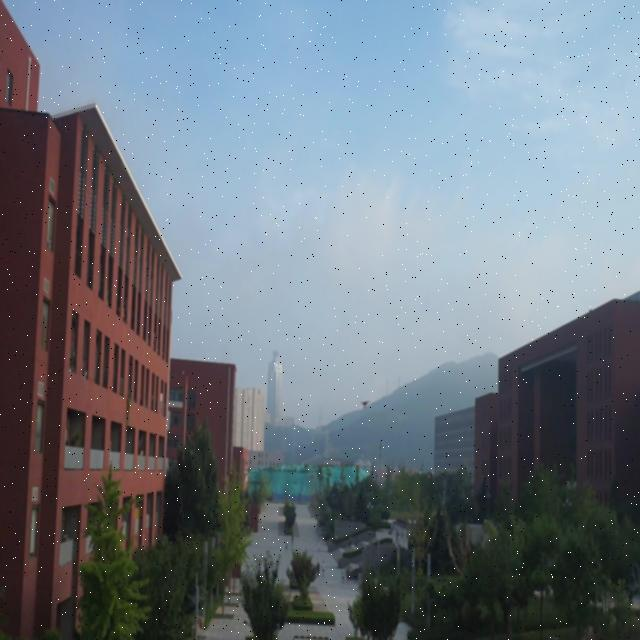UAV: (360, 400, 371, 409)
